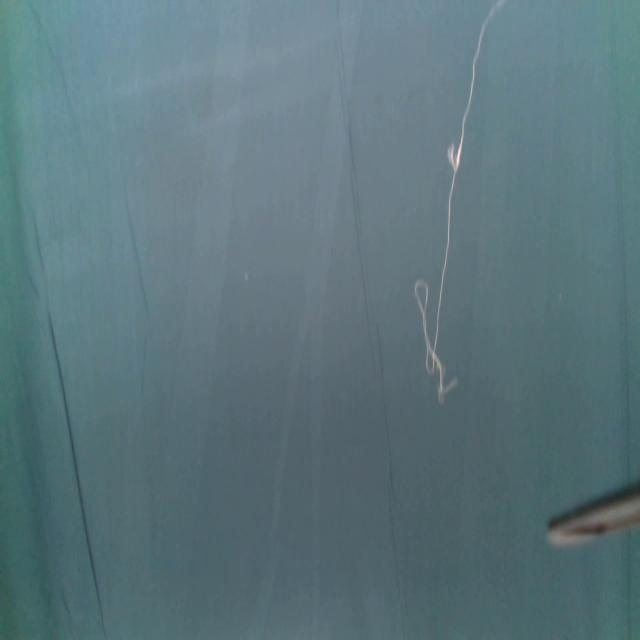crease: (335, 0, 404, 622), (35, 215, 105, 640), (611, 70, 633, 481), (24, 0, 74, 119), (124, 194, 149, 322)
